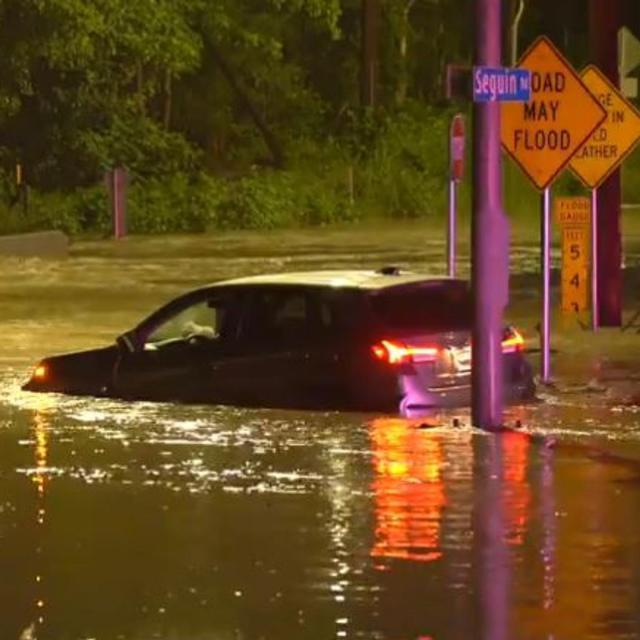water: (2, 206, 638, 638), (1, 215, 447, 639), (503, 195, 544, 393), (550, 199, 572, 385), (455, 180, 470, 279)
